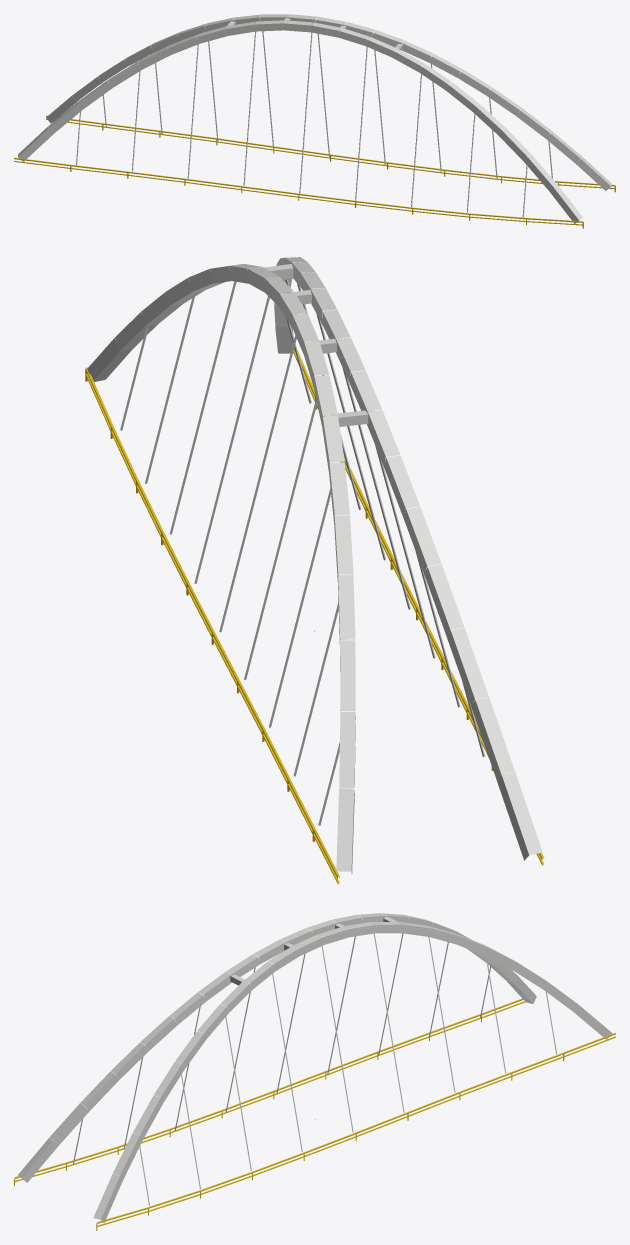
File: spaans_bridge.glb
The picture shows the model from 3 angles, top to bottom: view 1: azimuth 30°, elevation 25°; view 2: azimuth 150°, elevation 25°; view 3: azimuth 270°, elevation 25°; orthographic projection. The views are drawn at different scales.
Visible parts, largest first — view 1: spaans_bridge_lod0; view 2: spaans_bridge_lod0; view 3: spaans_bridge_lod0.
Boxes of the visible parts, x1,y1,x2,y2 form: spaans_bridge_lod0: (14, 14, 615, 228); spaans_bridge_lod0: (85, 257, 544, 884); spaans_bridge_lod0: (14, 913, 615, 1230).
Size of what is drawn, in the model's own units: 75.29 by 27.99 by 80.64.
